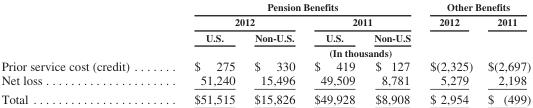table: (0, 0, 530, 105)
table column: (0, 0, 161, 105), (161, 0, 243, 105), (243, 0, 303, 105), (303, 0, 363, 105), (419, 0, 479, 105), (363, 0, 419, 105), (479, 0, 530, 105)
table column header: (0, 0, 530, 58)
table row: (0, 88, 530, 105), (0, 72, 530, 88), (0, 14, 530, 29), (0, 29, 530, 44), (0, 0, 530, 14), (0, 44, 530, 58), (0, 58, 530, 72)
table spanning cell: (161, 44, 530, 58), (161, 0, 419, 14), (161, 14, 303, 29), (419, 14, 479, 44), (303, 14, 419, 29), (419, 0, 530, 14), (479, 14, 530, 44)
